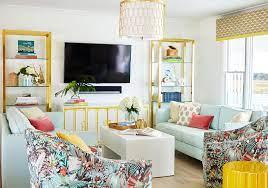TV: (60, 42, 136, 88)
chair: (200, 117, 268, 188)
console: (64, 102, 122, 132)
light: (115, 0, 167, 43)
sofa: (3, 102, 99, 188), (156, 102, 268, 168)
table: (99, 121, 177, 177), (223, 159, 267, 188)
